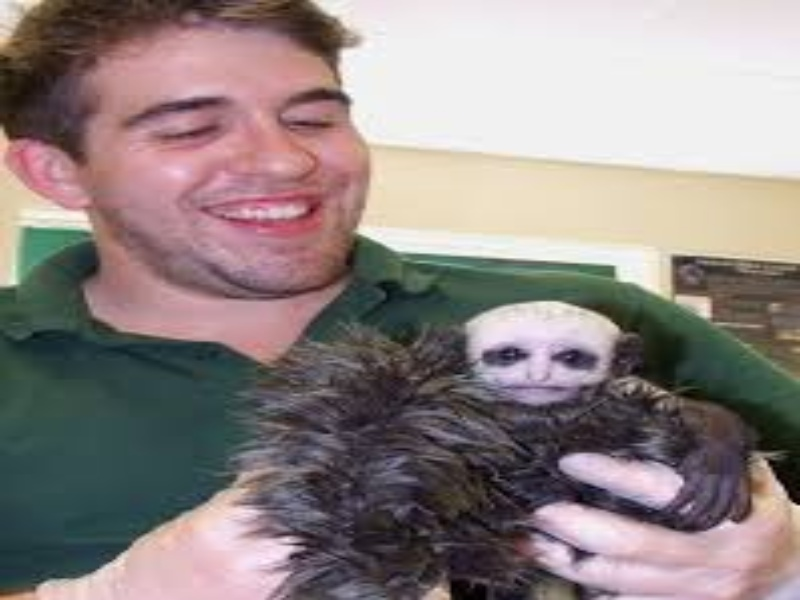monkey: (426, 275, 647, 496)
